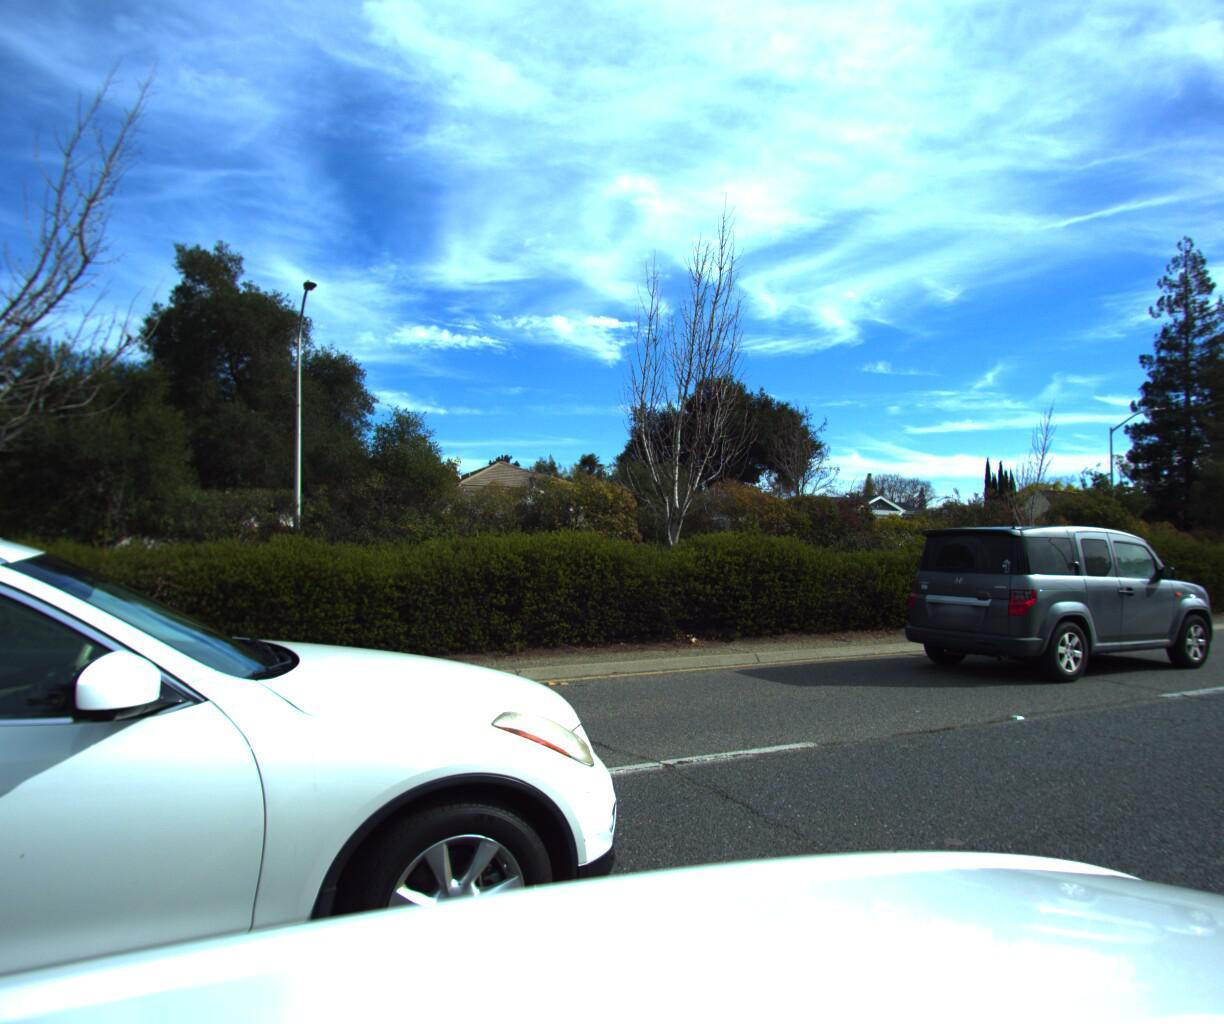car: (0, 444, 728, 1024), (888, 519, 1217, 685)
